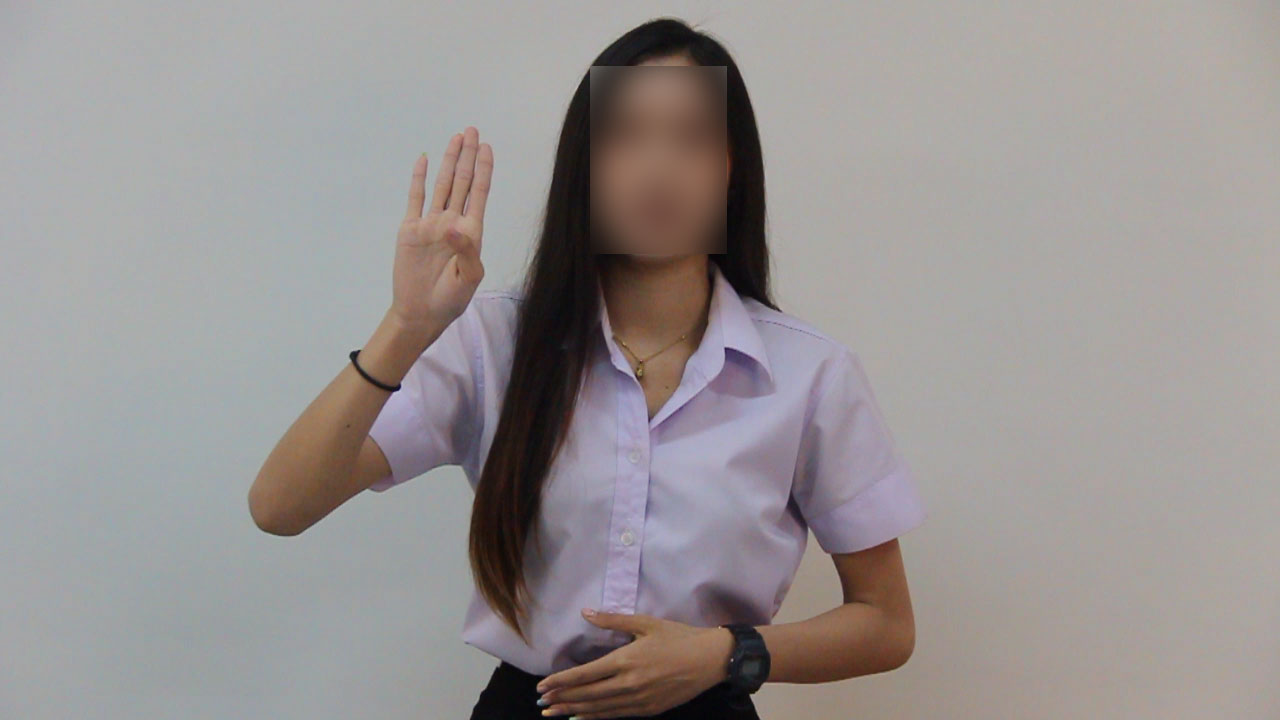bor: (369, 89, 504, 366)
